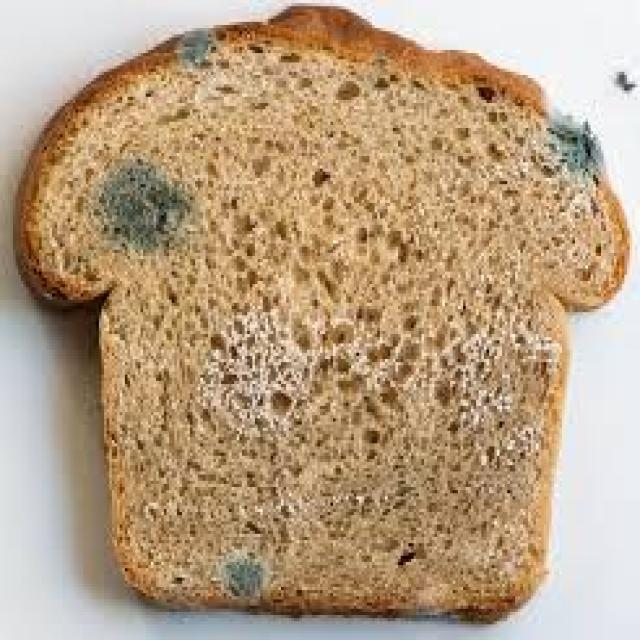wet: (42, 28, 581, 594)
